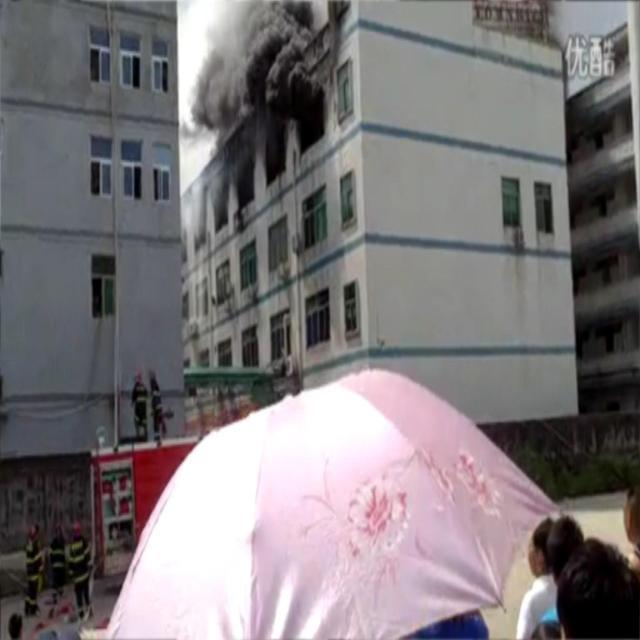Smoke: (176, 1, 342, 244)
